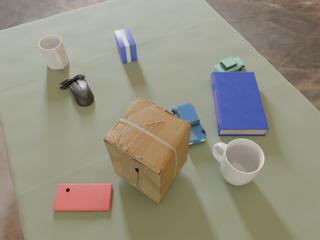book: (211, 72, 269, 136)
box: (104, 96, 191, 203), (115, 29, 137, 63)
cup: (212, 139, 264, 185), (39, 35, 69, 69)
mouse: (59, 74, 94, 106)
phone: (53, 184, 112, 211)
toy_car: (172, 103, 206, 145), (214, 57, 245, 72)
